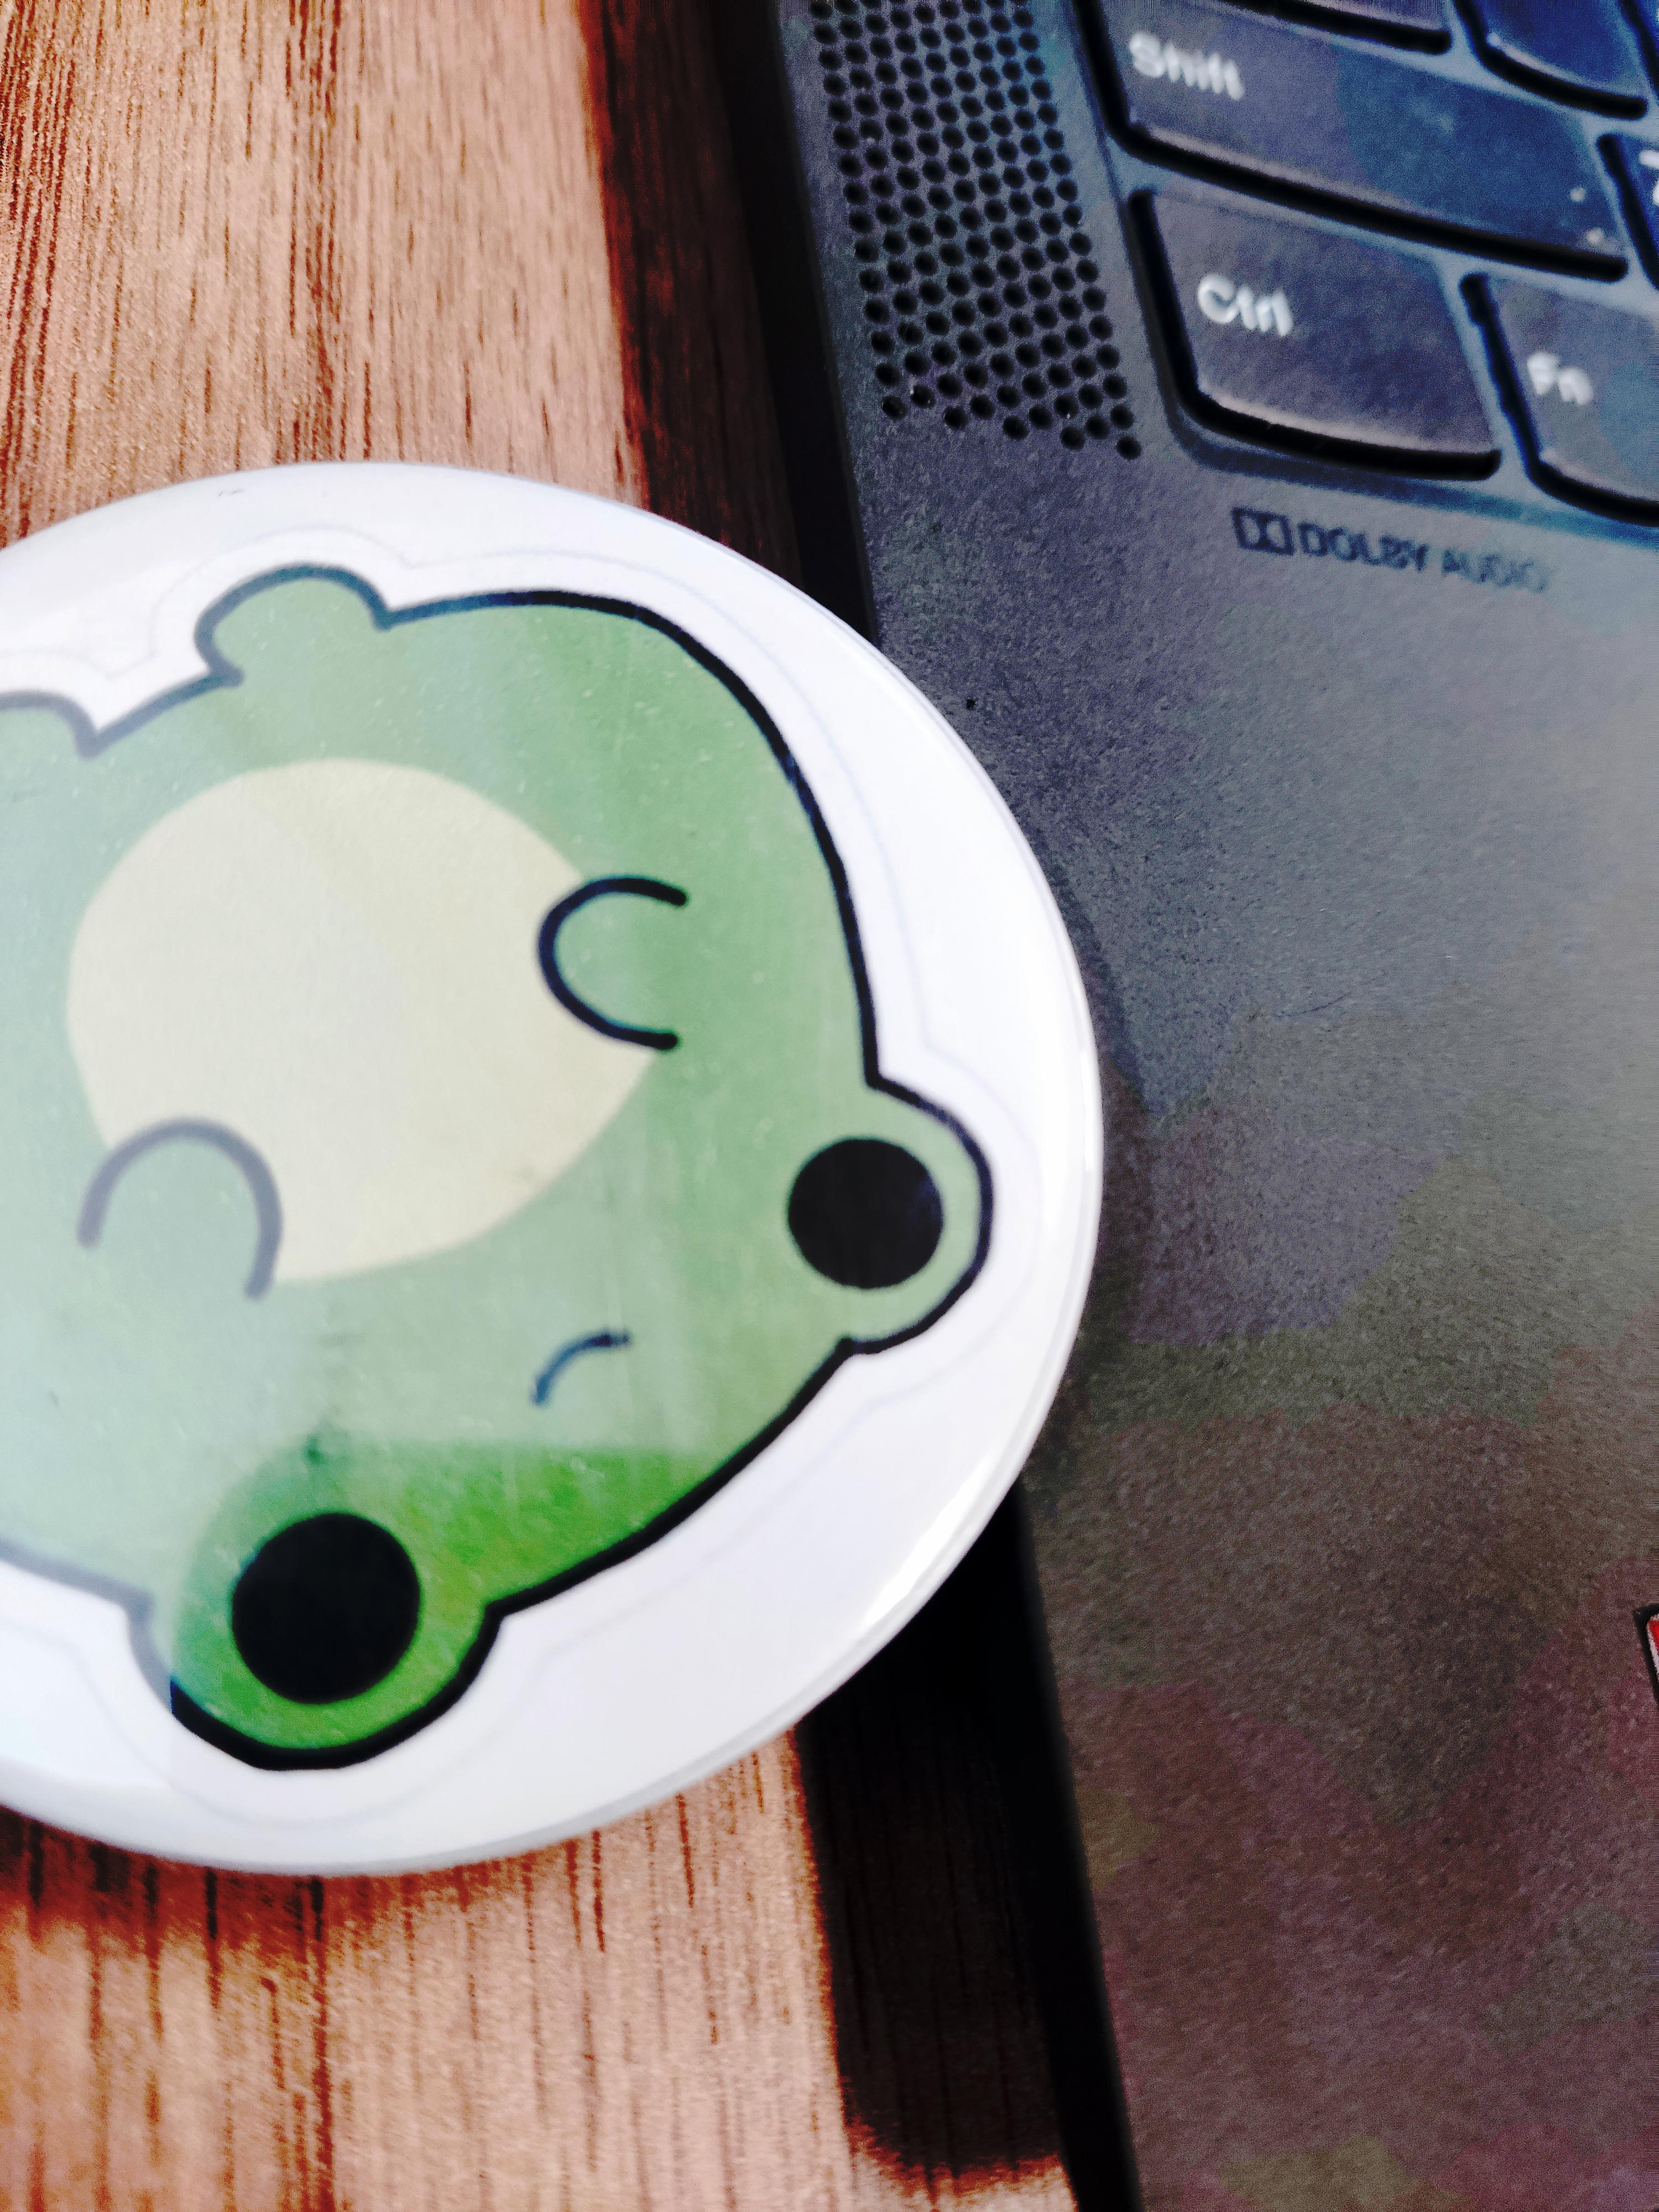pin: (0, 411, 1161, 1900)
